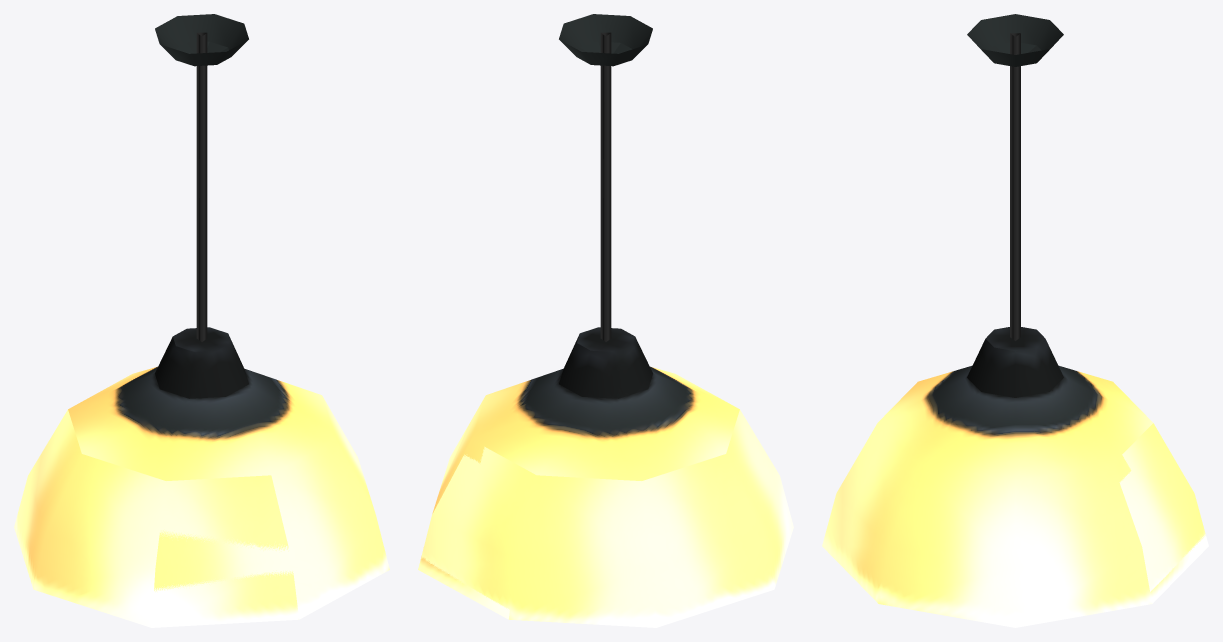
The model's file is ELT0110013.fbx.
3 views of the same model, side by side, from view 1: azimuth 30°, elevation 25°; view 2: azimuth 150°, elevation 25°; view 3: azimuth 270°, elevation 25° (orthographic).
Parts seen in each view (by area): view 1: smELT0110013; view 2: smELT0110013; view 3: smELT0110013.
Part boxes in pixels (box(x1,y1,x2,y2)): smELT0110013: box(14, 14, 389, 627); smELT0110013: box(418, 14, 793, 627); smELT0110013: box(822, 14, 1208, 627).
Size of the model in its own units: 46.2 by 67.4 by 46.2.
1 material, 1 textured.
